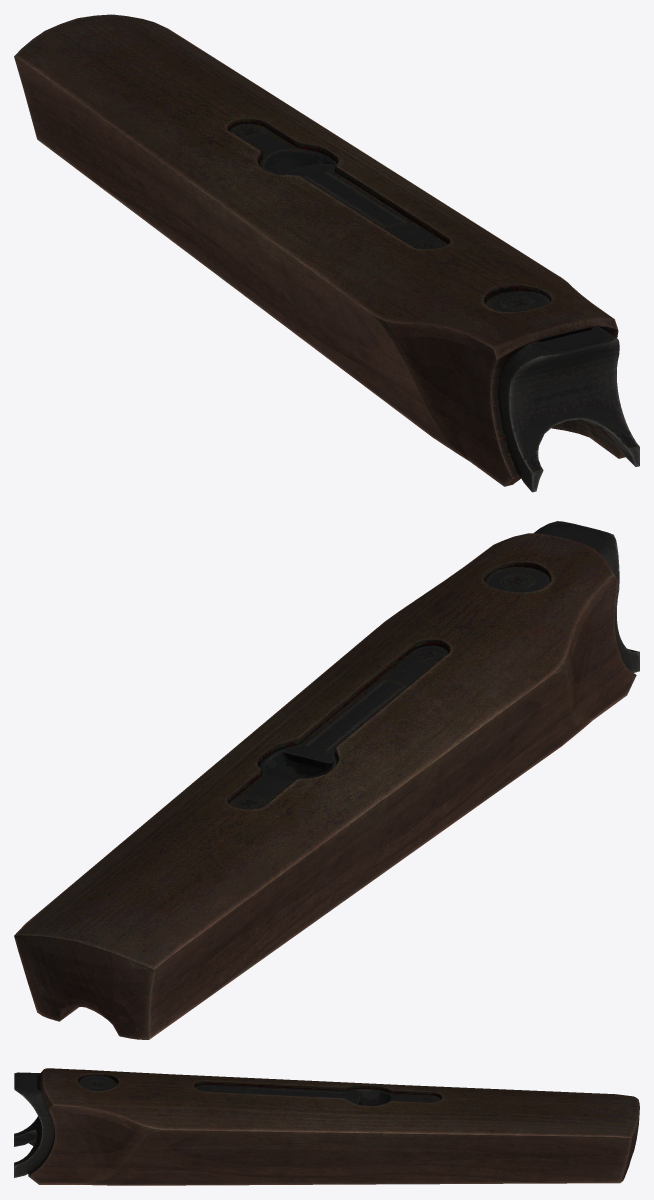
3 renders of one model, top to bottom at view 1: azimuth 30°, elevation 25°; view 2: azimuth 150°, elevation 25°; view 3: azimuth 270°, elevation 25°, orthographic. The views are drawn at different scales.
Parts seen in each view (by area): view 1: TW_61f7b85367ddd414173fdb36_PZ_Import; view 2: TW_61f7b85367ddd414173fdb36_PZ_Import; view 3: TW_61f7b85367ddd414173fdb36_PZ_Import.
Boxes of the visible parts, bbox=[...] form: TW_61f7b85367ddd414173fdb36_PZ_Import: bbox=[14, 14, 639, 492]; TW_61f7b85367ddd414173fdb36_PZ_Import: bbox=[14, 521, 639, 1039]; TW_61f7b85367ddd414173fdb36_PZ_Import: bbox=[14, 1068, 639, 1185].
Size of the model in its own units: 0.0276 by 0.1357 by 0.0213.
1 material, 1 textured.
